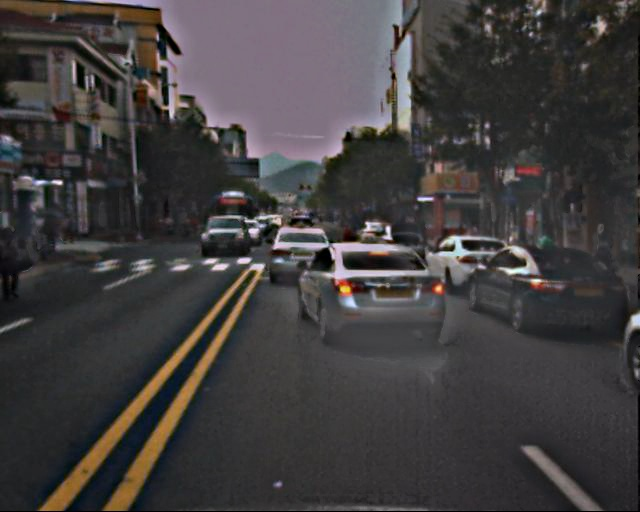person: (2, 224, 43, 292), (590, 224, 617, 291), (40, 201, 76, 245)
